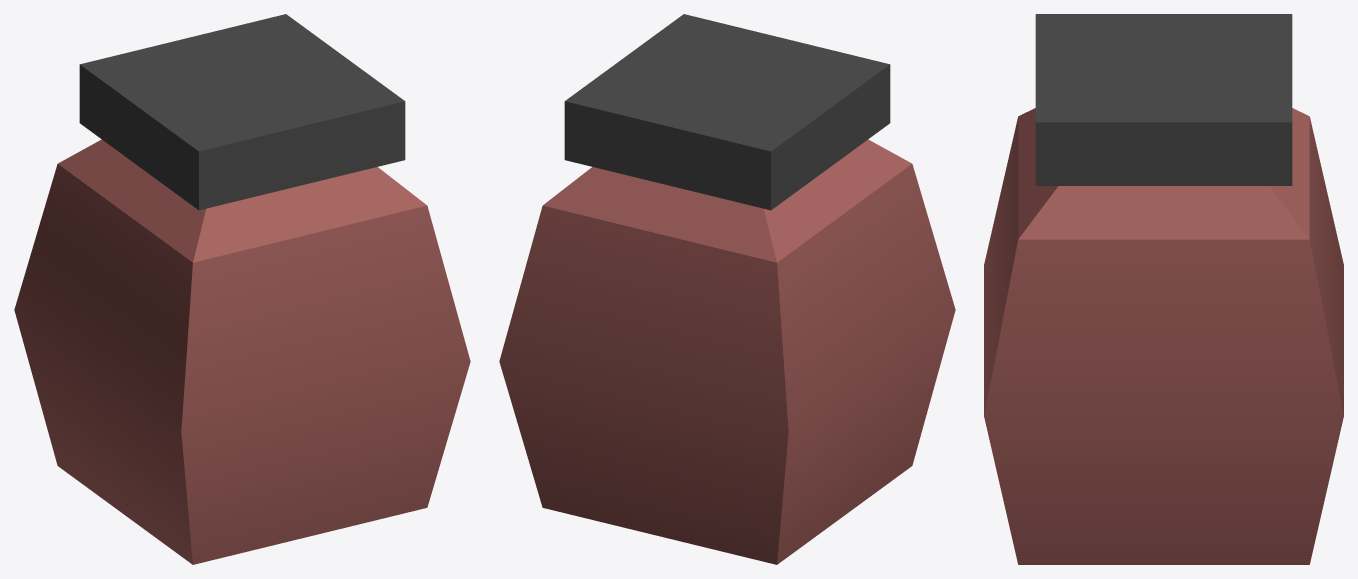
File: msh_jar_01.fbx
3 renders of one model, left to right at view 1: azimuth 30°, elevation 25°; view 2: azimuth 150°, elevation 25°; view 3: azimuth 270°, elevation 25°, orthographic. The views are drawn at different scales.
Visible parts, largest first — view 1: msh_jar_01; view 2: msh_jar_01; view 3: msh_jar_01.
Boxes of the visible parts, x1,y1,x2,y2 form: msh_jar_01: (14, 14, 470, 564); msh_jar_01: (499, 14, 955, 564); msh_jar_01: (984, 14, 1343, 564).
Size of the model in its own units: 25.94 by 34.62 by 25.94.
